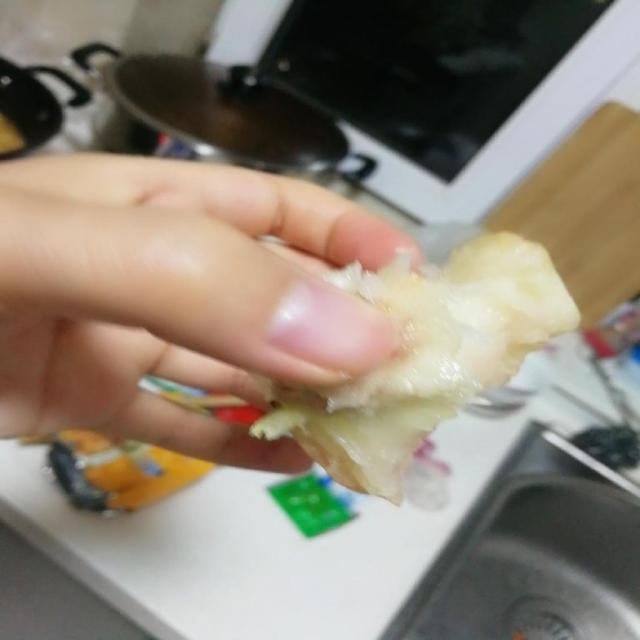Wet: (248, 227, 584, 506)
